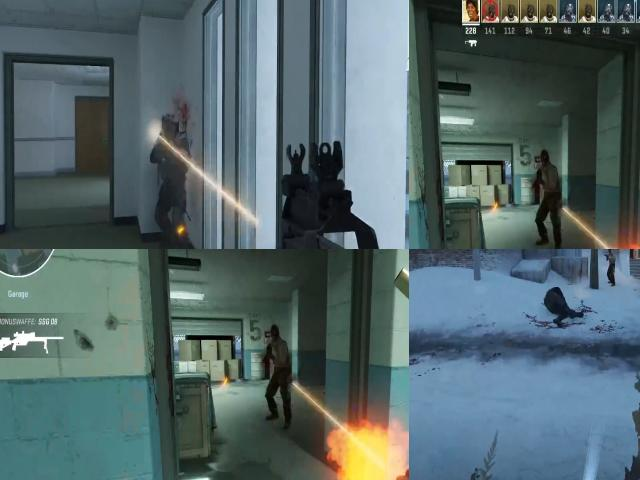CT: (150, 114, 197, 203)
CT-Head: (157, 116, 179, 141)
Dead: (539, 286, 584, 333)
T: (538, 155, 562, 209), (268, 330, 292, 384), (604, 249, 617, 270)
T-Head: (535, 147, 556, 175), (265, 322, 286, 350), (605, 249, 614, 257)
